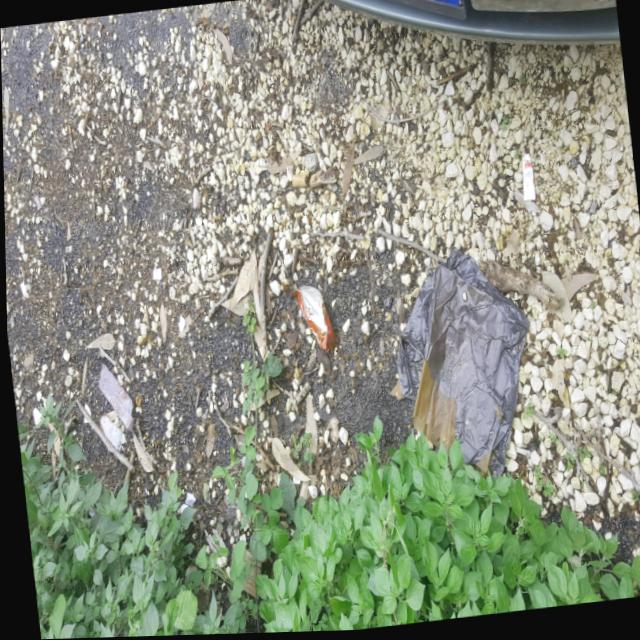Cardboard: (375, 230, 550, 505)
Plastic: (285, 281, 337, 364), (515, 149, 538, 213)
